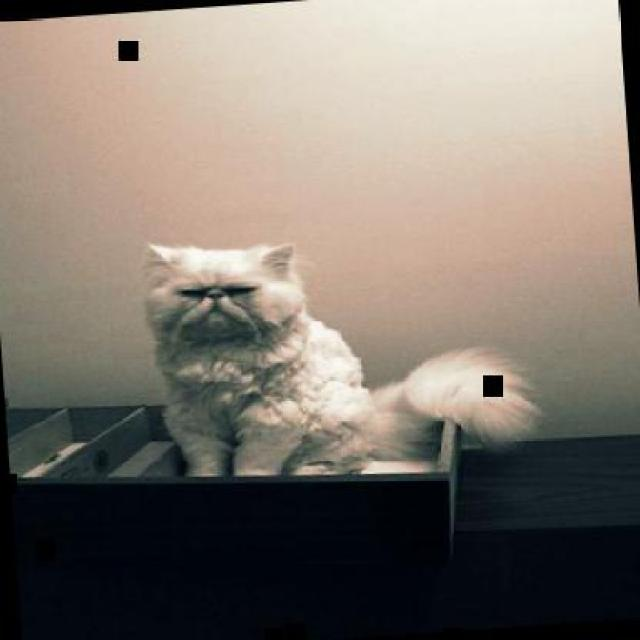cat: (136, 216, 544, 489)
